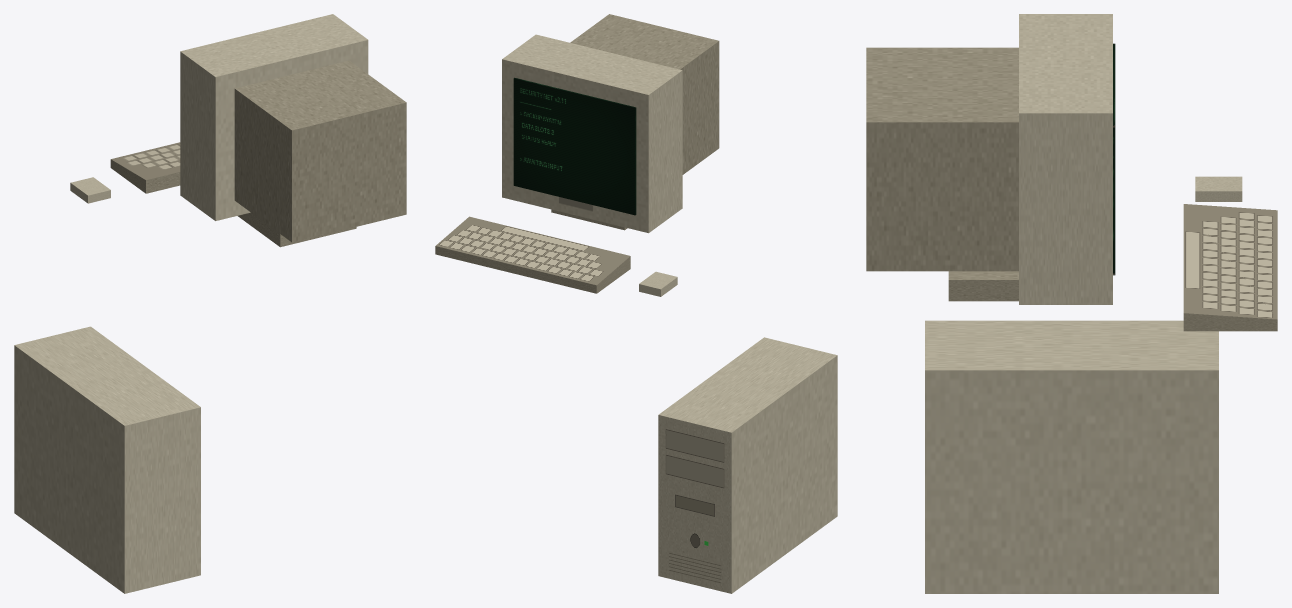
The model's file is SM_SavePC_Beige.fbx.
The picture shows the model from 3 angles, left to right: view 1: azimuth 30°, elevation 25°; view 2: azimuth 150°, elevation 25°; view 3: azimuth 270°, elevation 25°; orthographic projection. The views are drawn at different scales.
Parts seen in each view (by area): view 1: SM_SavePC_Beige; view 2: SM_SavePC_Beige; view 3: SM_SavePC_Beige.
Boxes of the visible parts, x1=… form: SM_SavePC_Beige: x1=14, y1=14, x2=406, y2=593; SM_SavePC_Beige: x1=435, y1=14, x2=837, y2=593; SM_SavePC_Beige: x1=866, y1=14, x2=1277, y2=593.
Bounding box in the file's own units: 0.75 × 1.15 × 0.7.
1 material, 1 textured.
